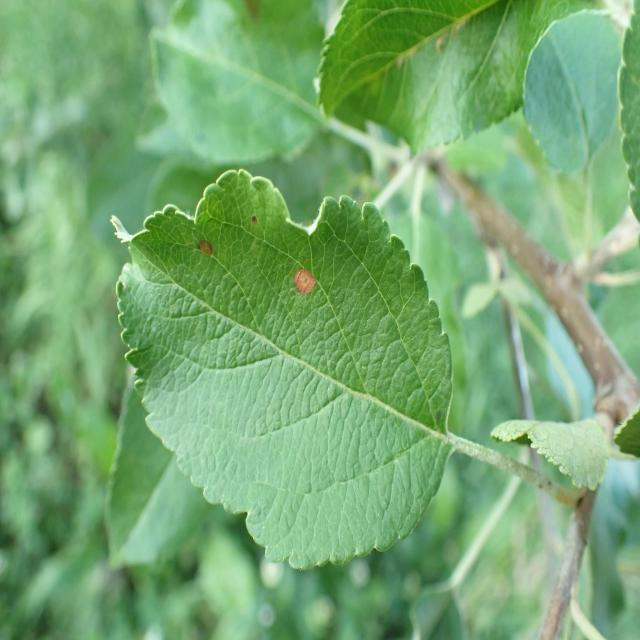Black Rot: (290, 234, 330, 318), (192, 212, 234, 288)
